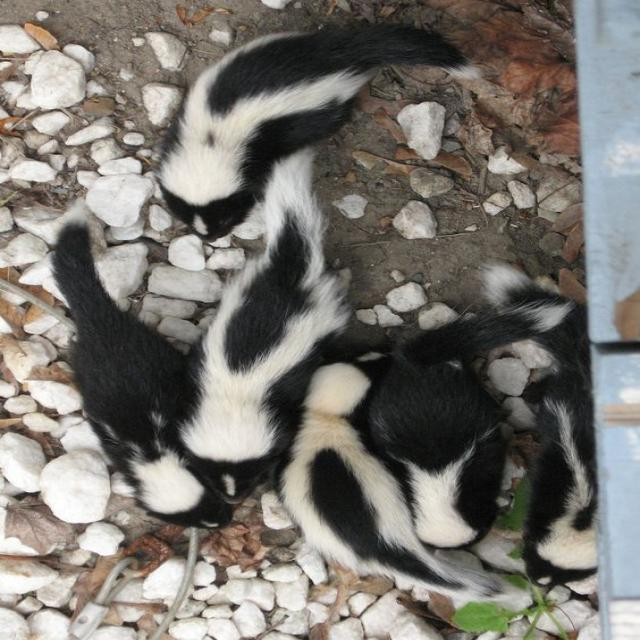Skunk: (126, 3, 478, 235)
